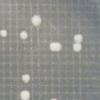white: (49, 40, 64, 52), (30, 14, 42, 28), (72, 32, 84, 44), (20, 89, 32, 100), (18, 29, 28, 41), (71, 43, 83, 53), (21, 72, 31, 84), (0, 29, 8, 39), (47, 96, 60, 100)
